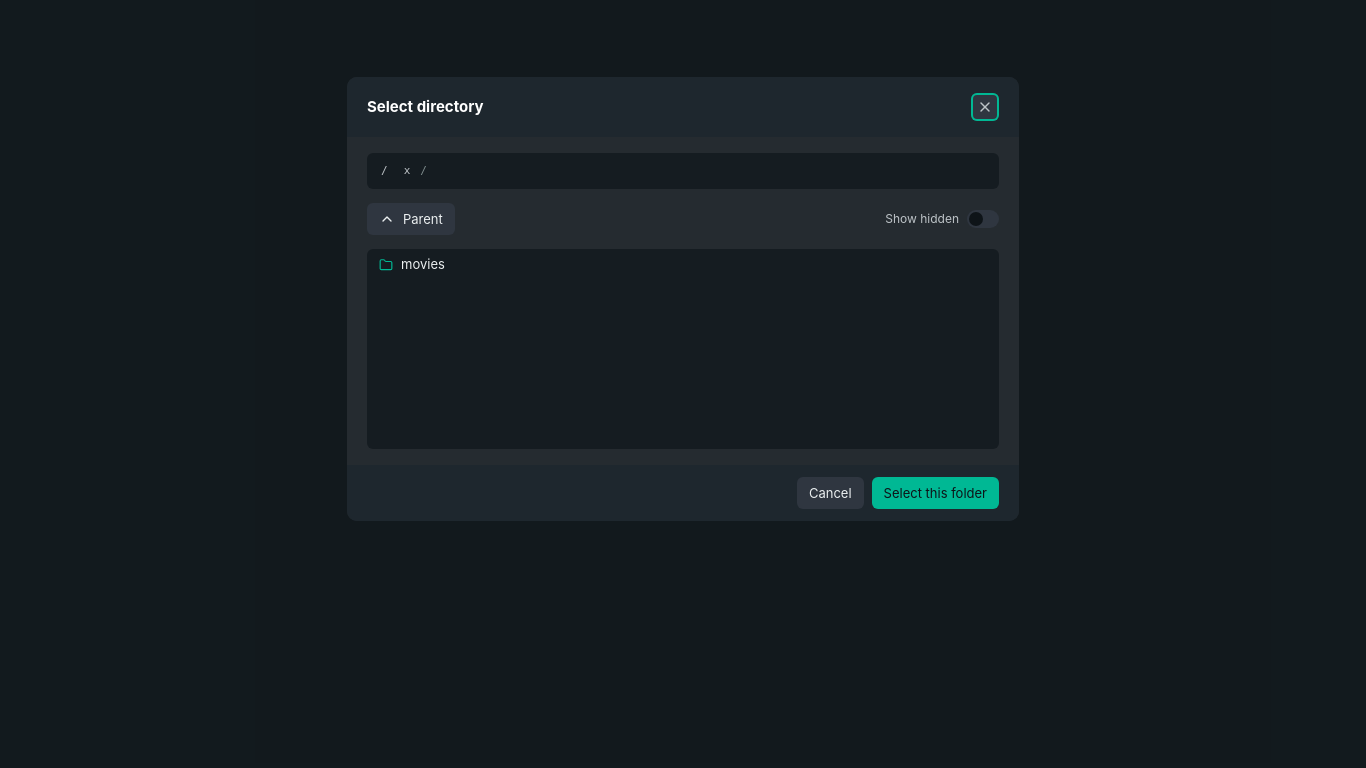
it: DirectoryPicker › hides hidden entries by default and reveals them when toggle is on
Expected: the button ".cache" is not shown
Expected: the button "movies" is shown, [367,249,999,281]
Click the switch named "show hidden" at (983, 219), box [967,210,999,228]
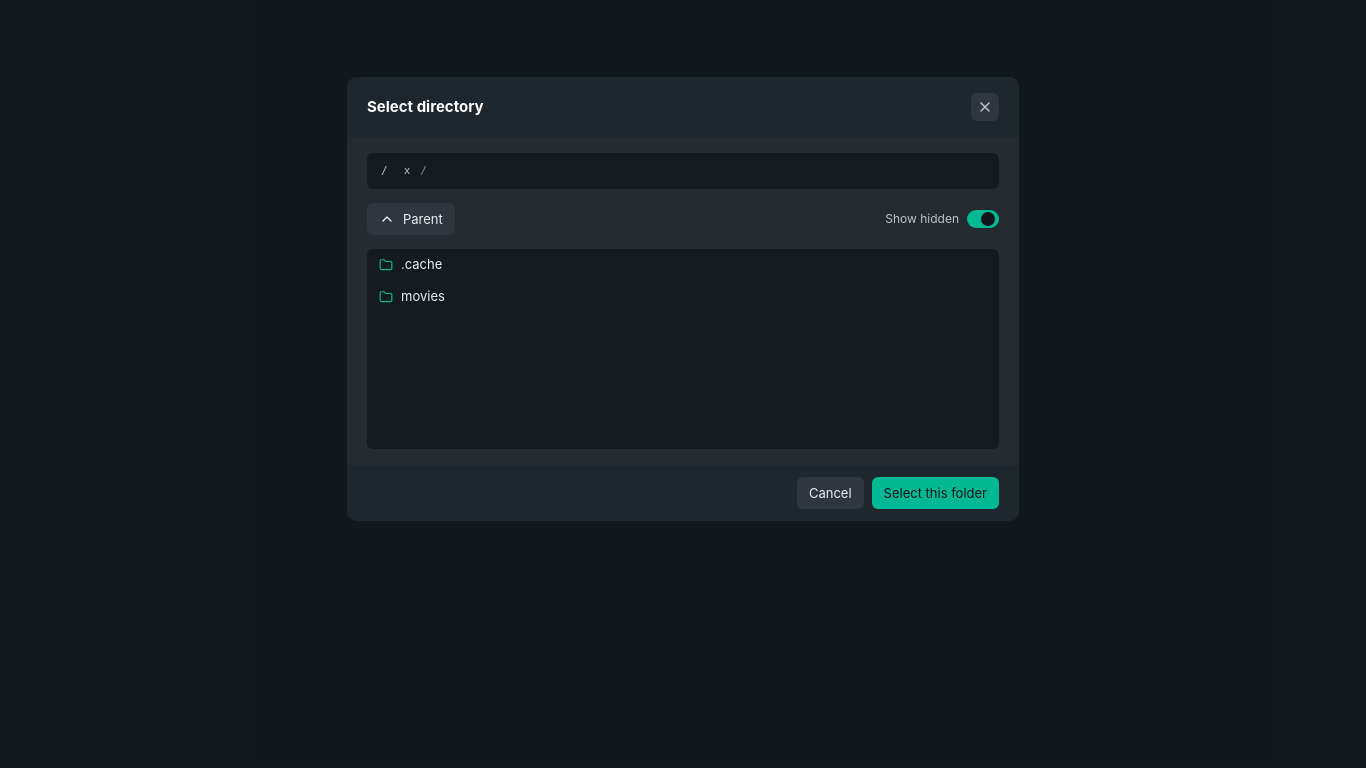
Now the button ".cache" is shown, box [367,249,999,281]
